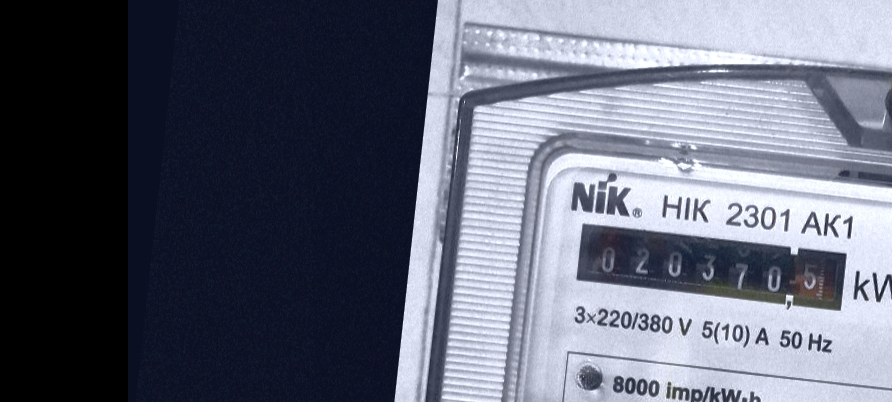0: (763, 262, 784, 294), (597, 242, 617, 272), (665, 247, 683, 277)
2: (631, 244, 652, 276)
3: (698, 250, 717, 281)
5: (799, 259, 820, 292)
7: (730, 259, 748, 291)
screen: (567, 215, 855, 320)
